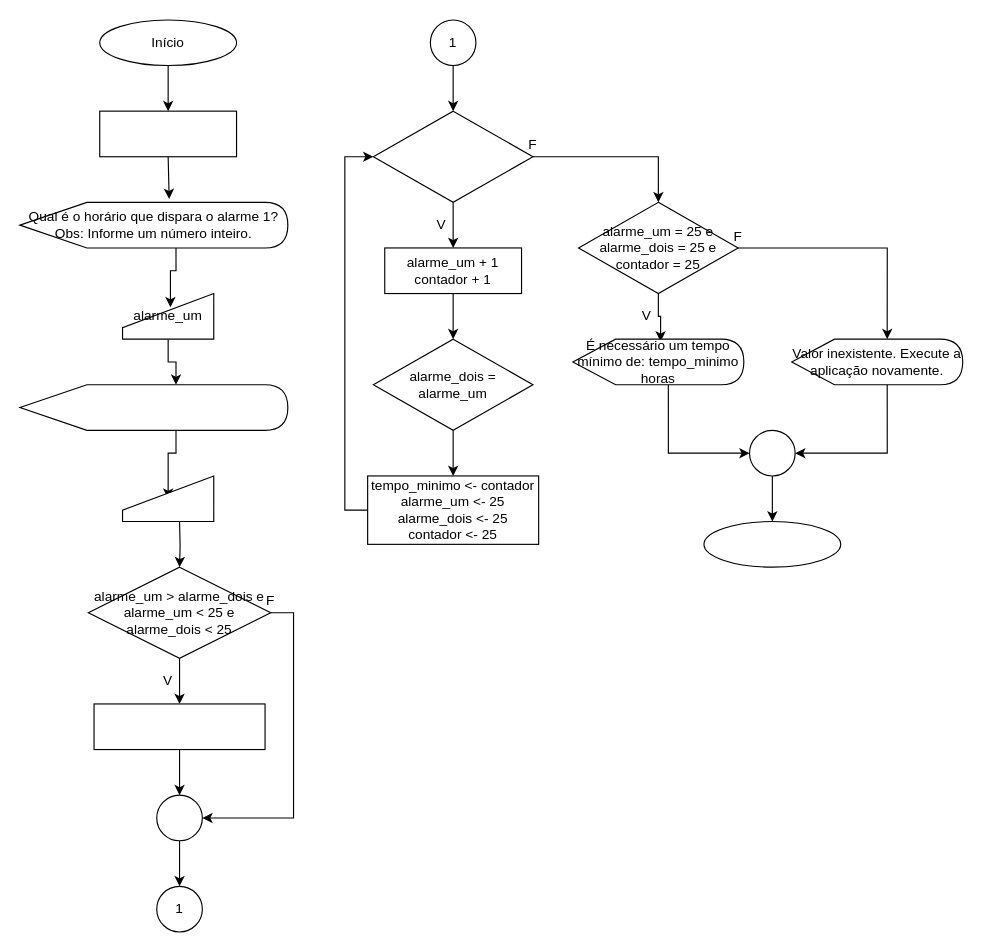
This 983x952 diagram has some shape labels left out. The shapes that lost their labels are listed below. From the top down, each one's box as (x1, y1, x2, y2) in pixels, then its label:
(99, 110, 237, 157): troca_valor <- 0 contador <- 0 tempo_minimo <- 0
(372, 110, 533, 202): alarme_um < 25 e alarme_dois < 25
(19, 384, 288, 430): Qual é o horário que dispara o alarme 2? Obs: Informe um número inteiro.
(121, 475, 214, 522): alarme_dois
(703, 520, 841, 567): Fim
(93, 703, 265, 750): troca_valor <- alarme_dois alarme_dois <- alarme_um alarme_um <- troca_valor
